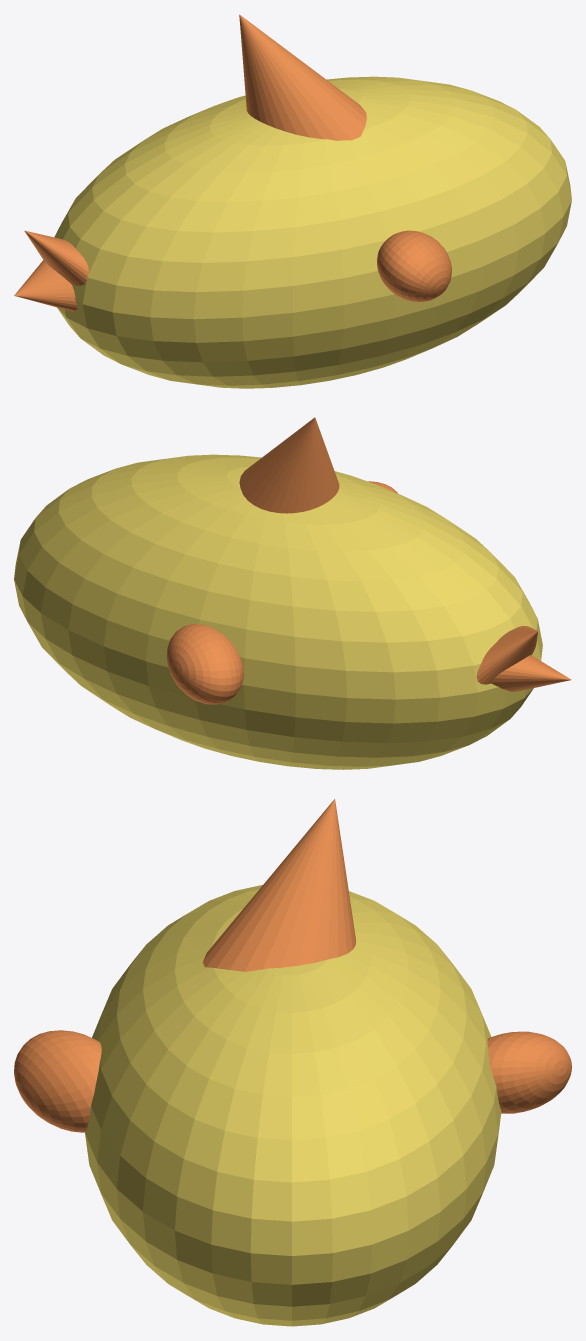
File: fish4.glb
3 views of the same model, one above another, from view 1: azimuth 30°, elevation 25°; view 2: azimuth 150°, elevation 25°; view 3: azimuth 270°, elevation 25° (orthographic). The views are drawn at different scales.
Parts seen in each view (by area): view 1: Cube.005; view 2: Cube.005; view 3: Cube.005.
Boxes of the visible parts, x1,y1,x2,y2 form: Cube.005: [14, 14, 571, 388]; Cube.005: [14, 417, 571, 769]; Cube.005: [14, 799, 571, 1326].
Bounding box in the file's own units: 0.5848 × 0.3597 × 0.4174.
